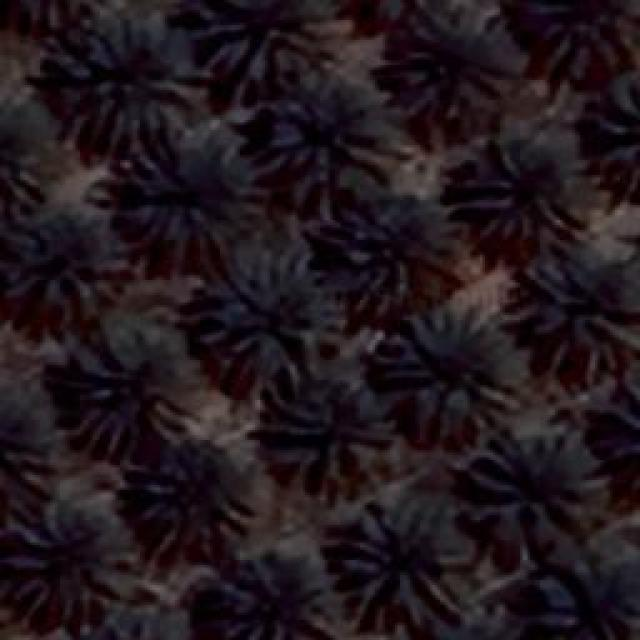PalmTree: (52, 12, 200, 152), (385, 300, 525, 435), (202, 250, 340, 380), (305, 196, 463, 309), (62, 327, 200, 455), (262, 75, 408, 195), (122, 140, 260, 260), (335, 510, 470, 632), (448, 144, 582, 262), (264, 378, 398, 492), (0, 216, 128, 334), (468, 430, 602, 542), (1, 498, 121, 622), (510, 250, 630, 370), (395, 5, 515, 120), (138, 436, 252, 554), (192, 0, 340, 88), (512, 0, 640, 98), (218, 544, 340, 638), (530, 544, 635, 638), (0, 400, 60, 530), (584, 372, 640, 508), (0, 72, 54, 208), (592, 75, 638, 195), (84, 602, 218, 640), (411, 602, 541, 640), (0, 0, 105, 46)
